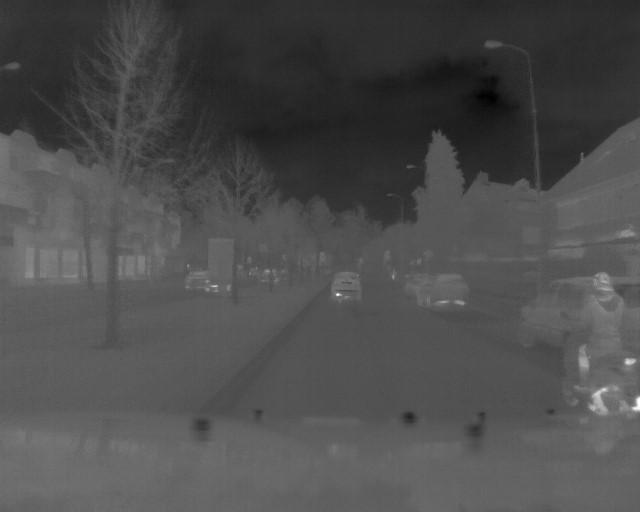car: (414, 272, 474, 310), (328, 270, 364, 304), (185, 269, 210, 295)
person: (573, 269, 623, 400)
